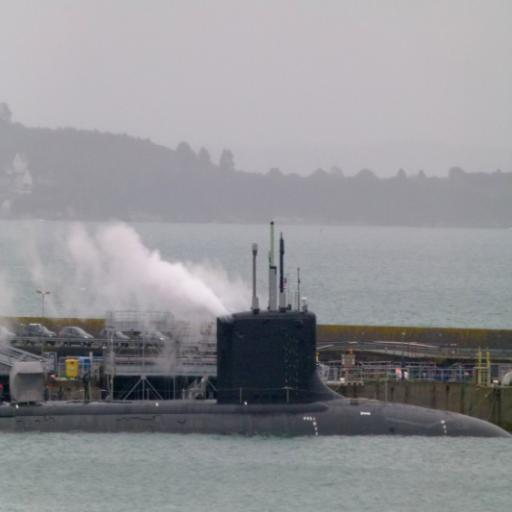submarine: (31, 312, 512, 440)
